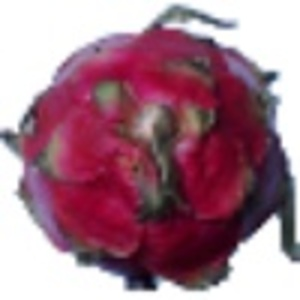pitaia: (1, 3, 300, 293)
